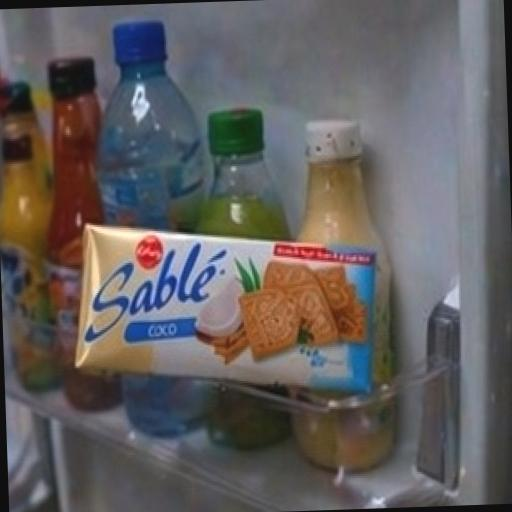sable: (42, 156, 441, 462)
